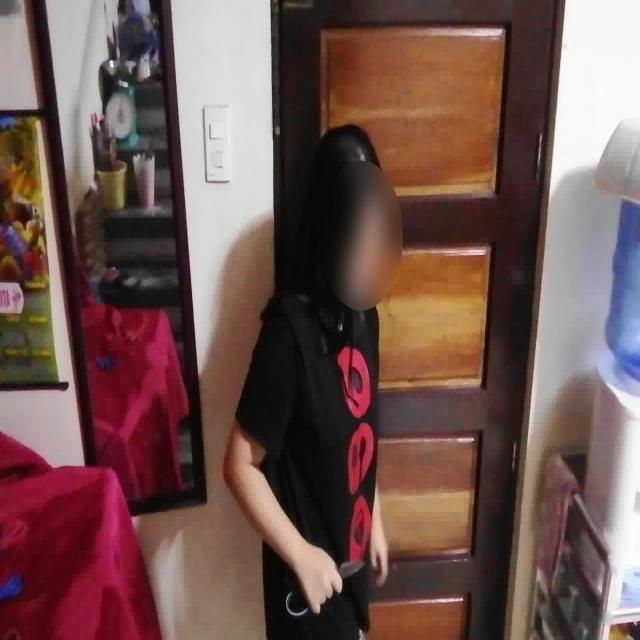scissor: (285, 548, 366, 618)
